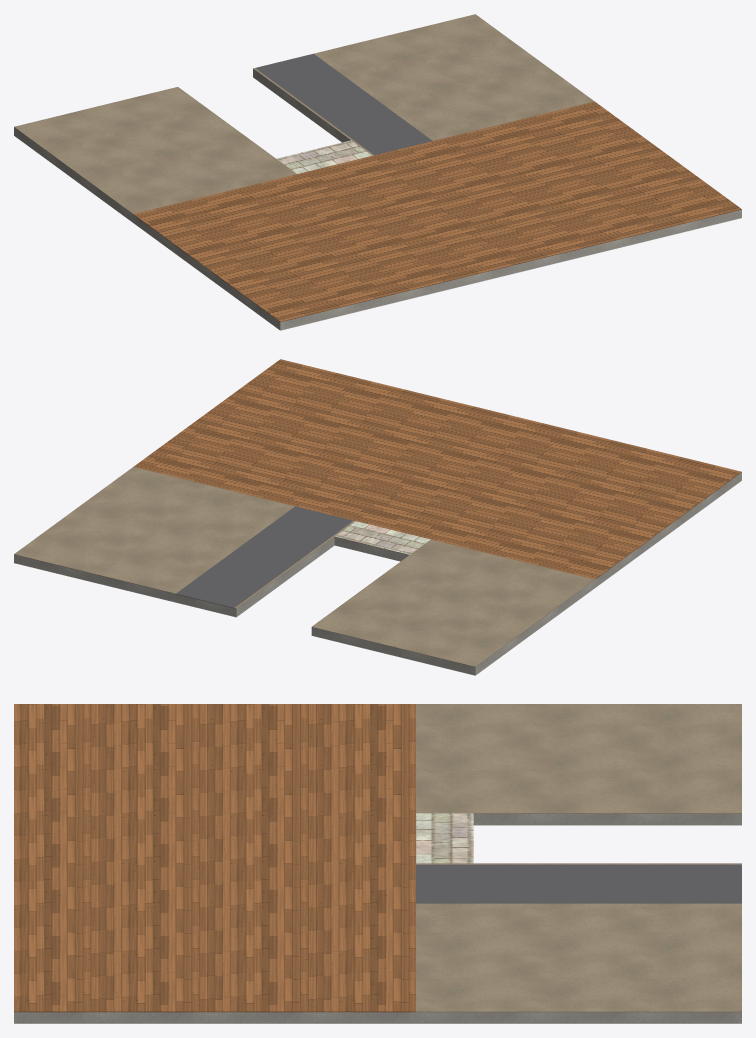
Rendered from slab_1.glb.
The picture shows the model from 3 angles, top to bottom: view 1: azimuth 30°, elevation 25°; view 2: azimuth 150°, elevation 25°; view 3: azimuth 270°, elevation 25°; orthographic projection. The views are drawn at different scales.
Visible parts, largest first — view 1: slab_1_parquet, slab_1_carpet2, slab_1_concrete, slab_1_dark, slab_1_stone, slab_1_ceil; view 2: slab_1_parquet, slab_1_carpet2, slab_1_concrete, slab_1_dark, slab_1_stone, slab_1_ceil; view 3: slab_1_parquet, slab_1_carpet2, slab_1_dark, slab_1_concrete, slab_1_stone, slab_1_ceil.
Part boxes in pixels (x1,y1,x2,y2): slab_1_parquet: (133, 101, 741, 322); slab_1_carpet2: (14, 14, 594, 213); slab_1_concrete: (14, 69, 741, 330); slab_1_dark: (255, 53, 432, 155); slab_1_stone: (276, 140, 371, 173); slab_1_ceil: (14, 77, 741, 330); slab_1_parquet: (133, 359, 741, 579); slab_1_carpet2: (14, 467, 594, 667); slab_1_concrete: (14, 472, 741, 675); slab_1_dark: (176, 506, 353, 608); slab_1_stone: (335, 521, 430, 554); slab_1_ceil: (14, 480, 741, 675); slab_1_parquet: (14, 704, 415, 1012); slab_1_carpet2: (416, 704, 741, 1012); slab_1_dark: (416, 864, 741, 903); slab_1_concrete: (14, 814, 741, 1023); slab_1_stone: (416, 813, 473, 863); slab_1_ceil: (14, 825, 741, 1023).
Bounding box in the file's own units: 13.4 × 0.25 × 13.4.
Materials: 6 (4 with a texture image).
